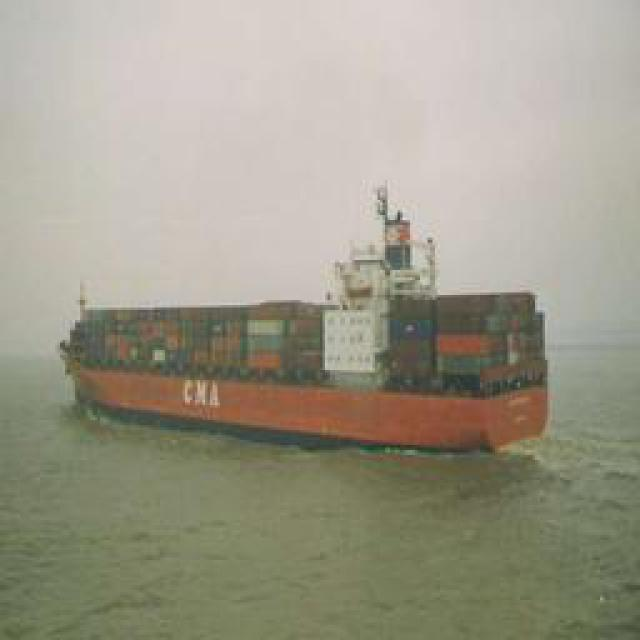Ship: (67, 295, 540, 458)
